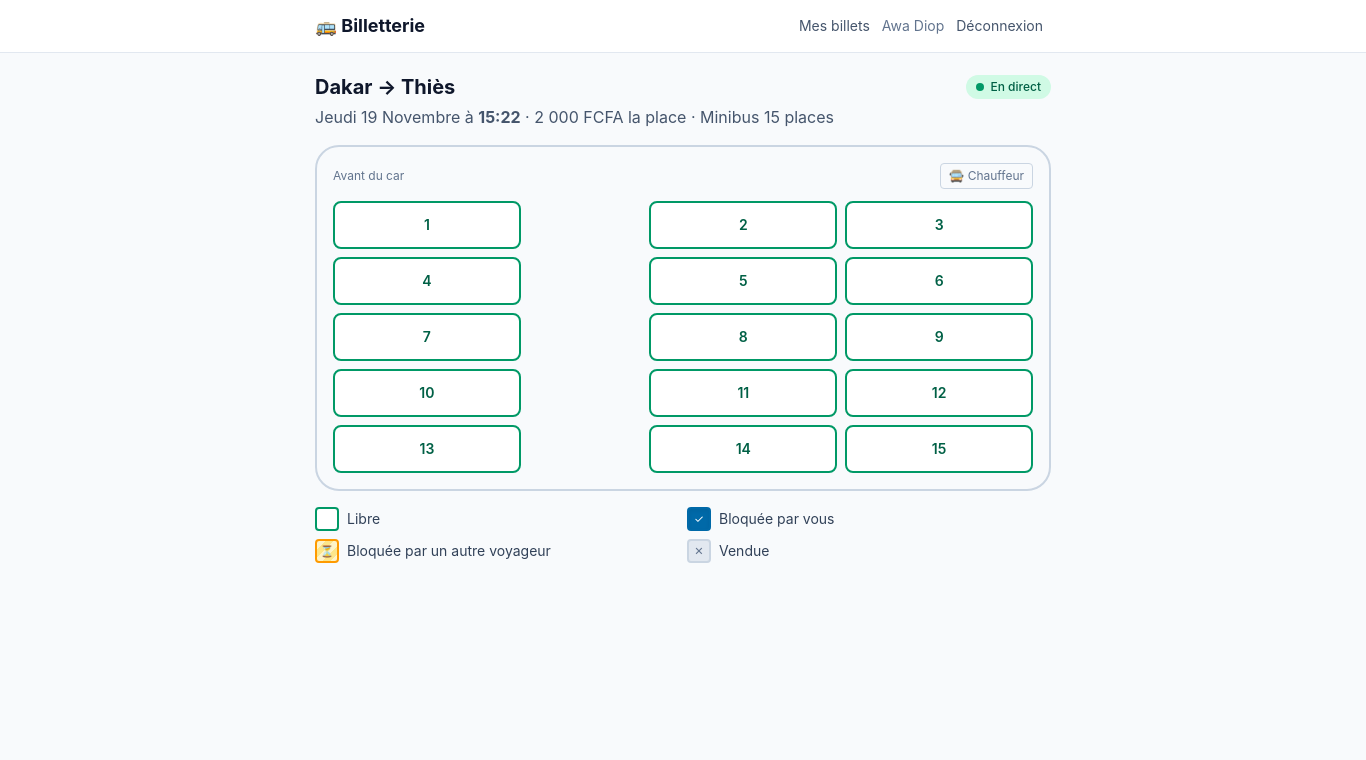
Test: page du plan du car › 409 HOLD_LIMIT : le message de l’API s’affiche
Step 1. Click the button "1" → (427, 225), box [333,201,521,249]
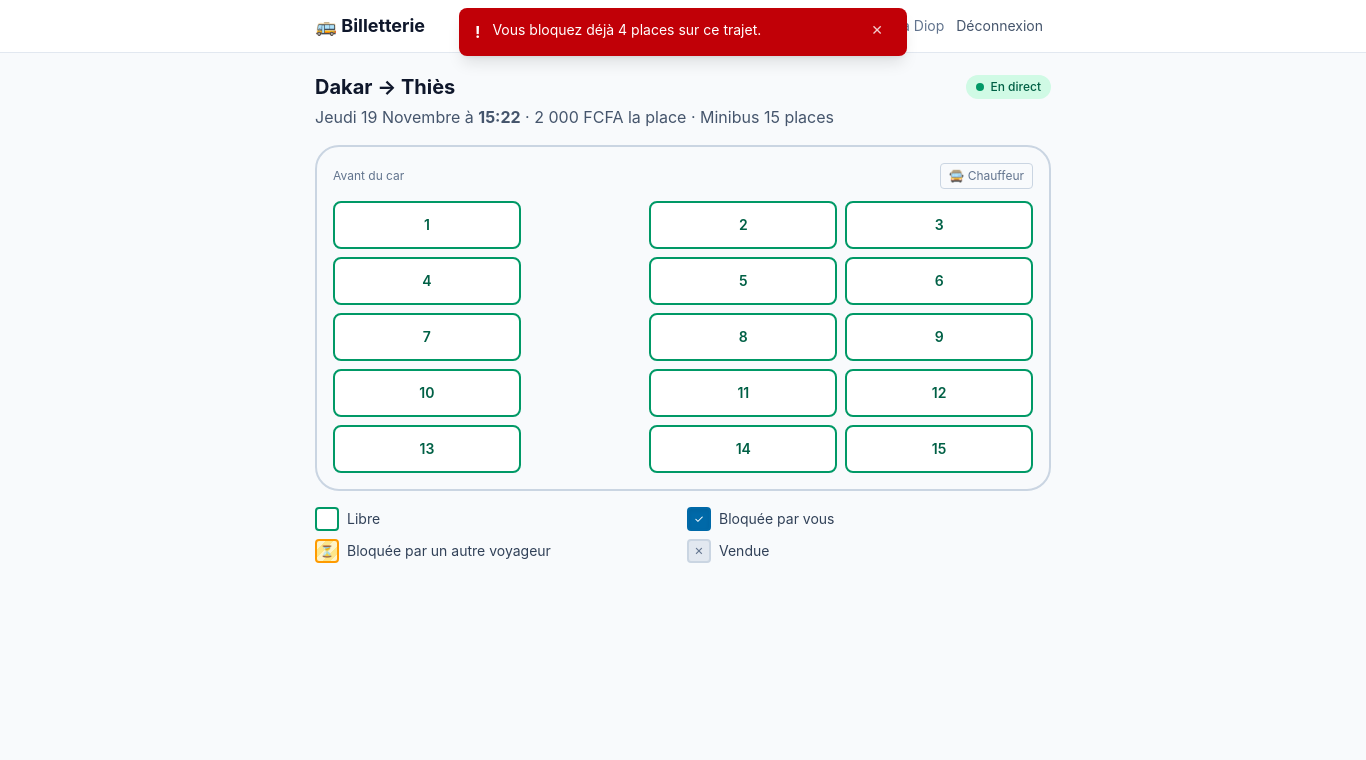
Expected: the message "! Vous bloquez déjà 4 places sur ce trajet. ✕" is shown, [459,8,907,56]
